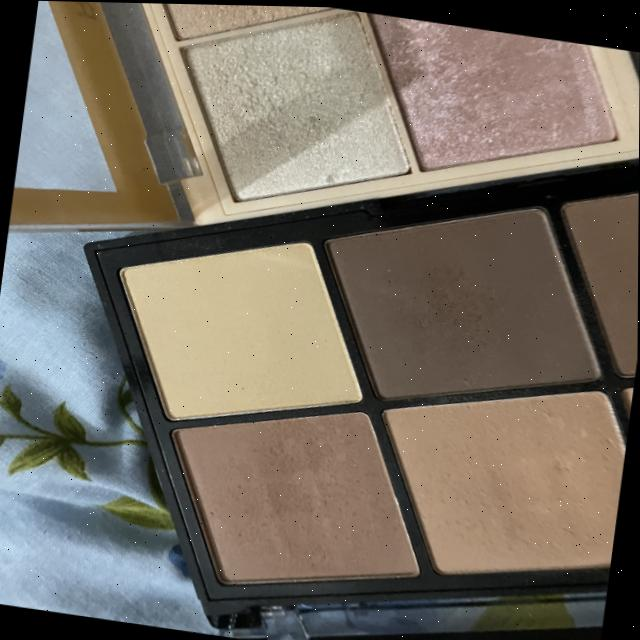bronzer: (295, 181, 633, 430), (347, 346, 634, 618), (143, 378, 449, 604), (104, 213, 385, 447)
highlighter: (142, 2, 444, 230), (339, 8, 629, 200), (118, 2, 356, 79)
